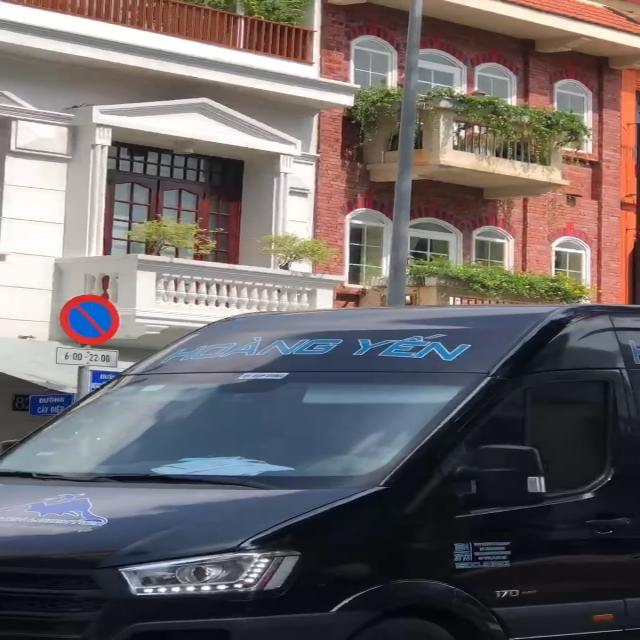Bien bao cam do xe: (56, 292, 132, 350)
